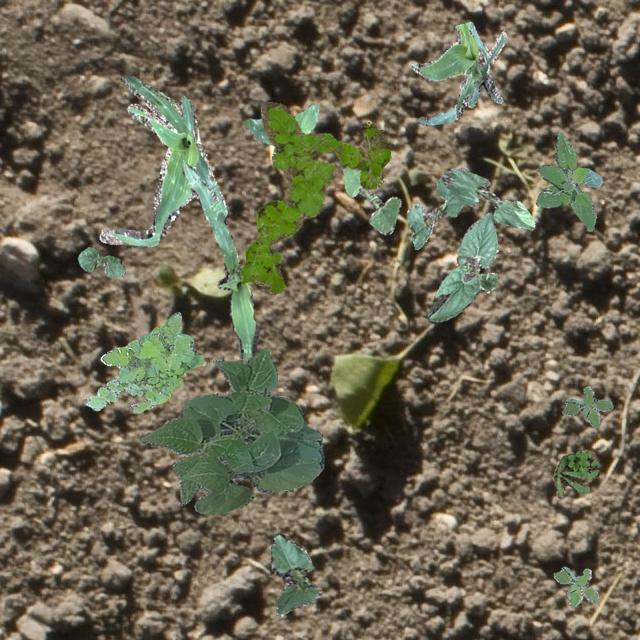crop: (138, 346, 322, 514), (98, 74, 225, 246), (180, 160, 258, 360), (410, 20, 506, 124), (427, 212, 498, 321), (441, 168, 534, 228), (406, 166, 466, 248), (270, 532, 320, 616), (342, 166, 399, 233), (76, 246, 125, 276)
weed: (238, 100, 390, 294), (84, 310, 204, 412), (534, 130, 602, 230), (244, 102, 318, 144), (552, 448, 598, 496), (562, 386, 612, 426), (552, 566, 596, 608)
